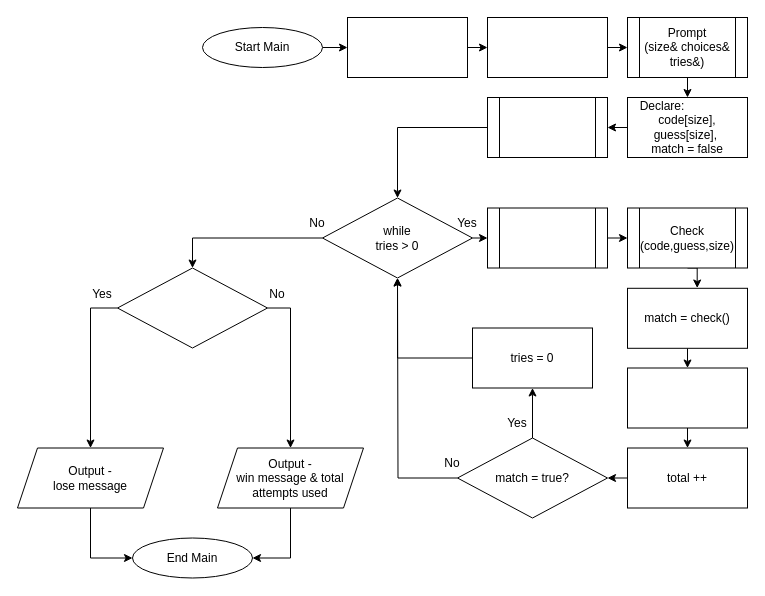
This 765x596 diagram has some shape labels left out. Here are the shapes that lost their labels. From the top down, the centre of each, then its label:
the point at 407,47: Set Random Number Seed
the point at 547,47: Declare Game Difficulty Variables
the point at 547,127: Generate(code, size,choices)
the point at 547,237: Make (guess, size,choices)
the point at 192,307: if !match
the point at 687,397: tries --
